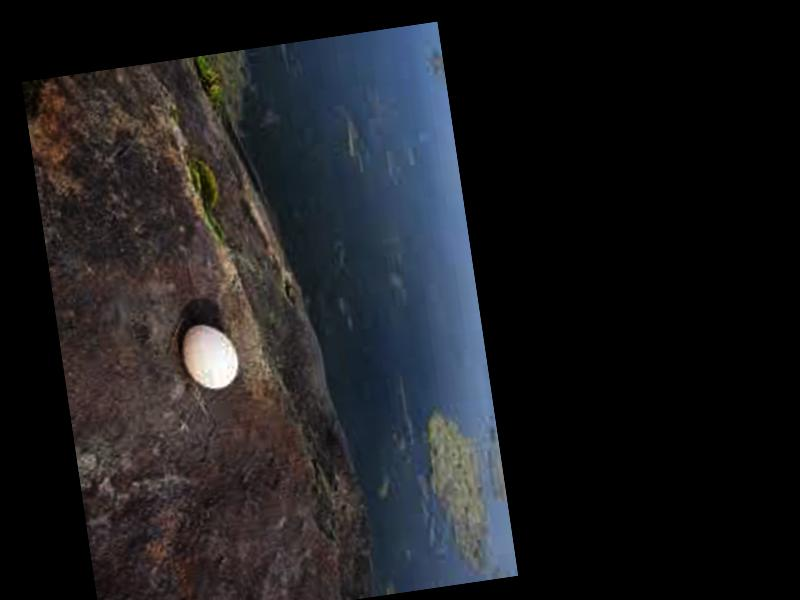Eggs: (179, 320, 243, 396)
